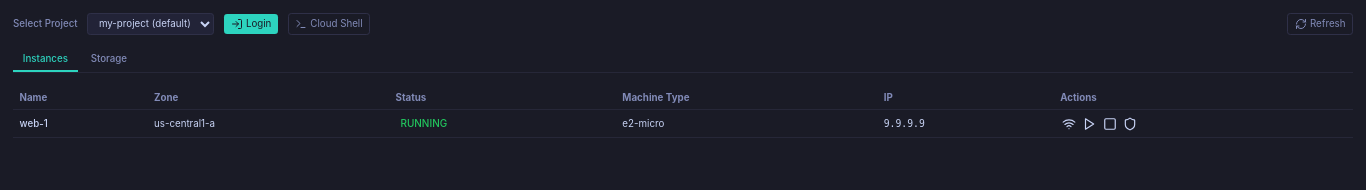
it: GcpPanel › switches to the storage tab and drills into a bucket
This screenshot has width=1366, height=190.
Click the button "Storage".
click(109, 60)  # box [81,48,137,72]
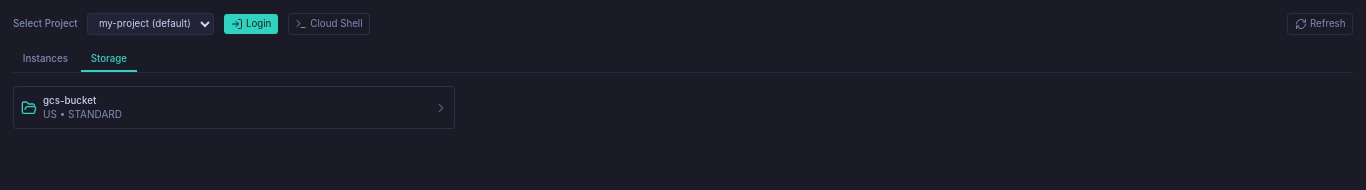
Result: the text "gcs-bucket" is shown
Click the text "gcs-bucket".
click(70, 100)  # box [43,95,96,106]
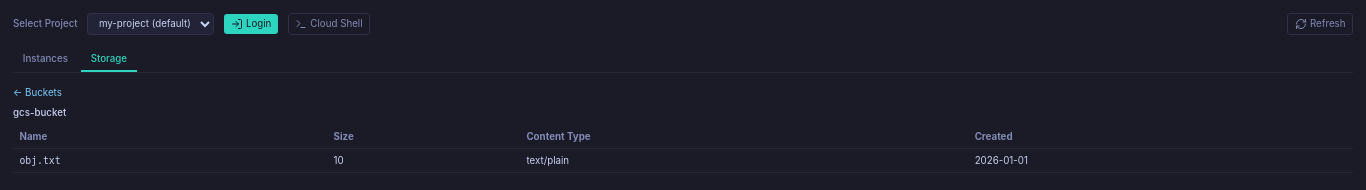
Result: the text "obj.txt" is shown at [13,148,327,172]
